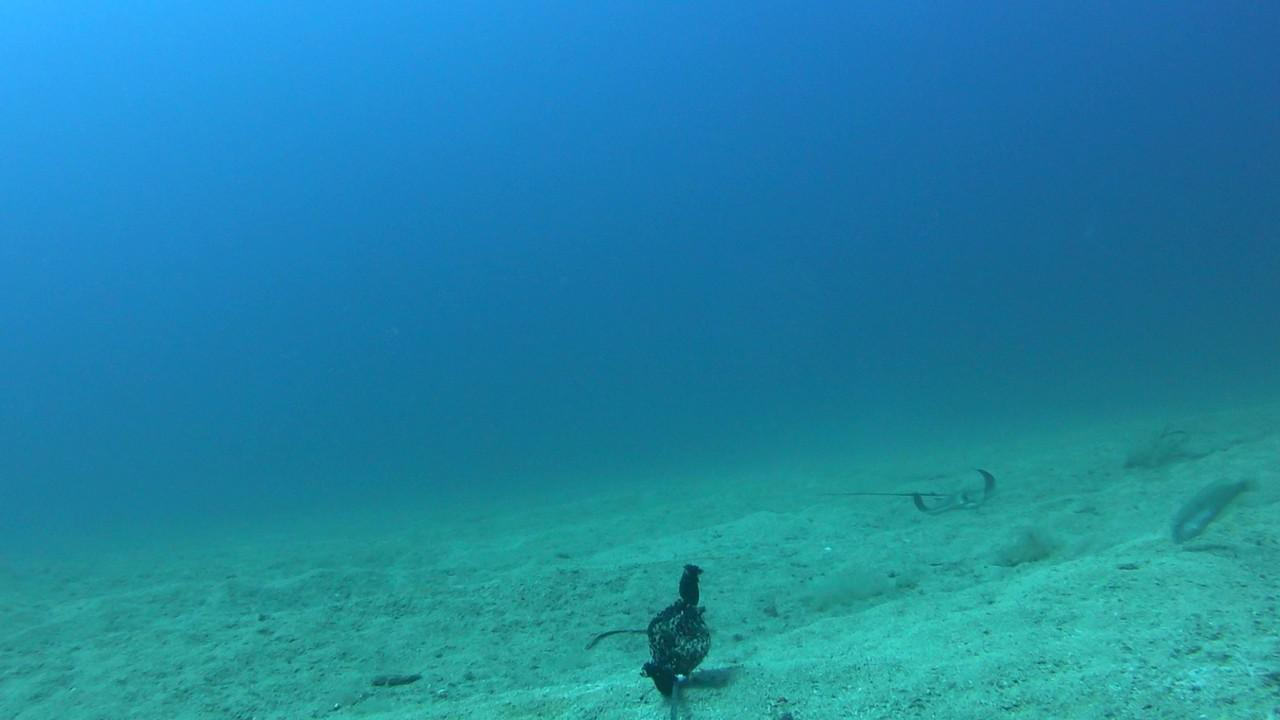myliobatis: (799, 454, 1023, 518)
raor: (1169, 476, 1261, 546)
